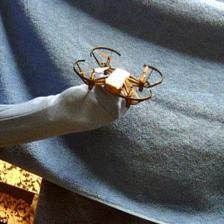drone: (70, 41, 165, 108)
